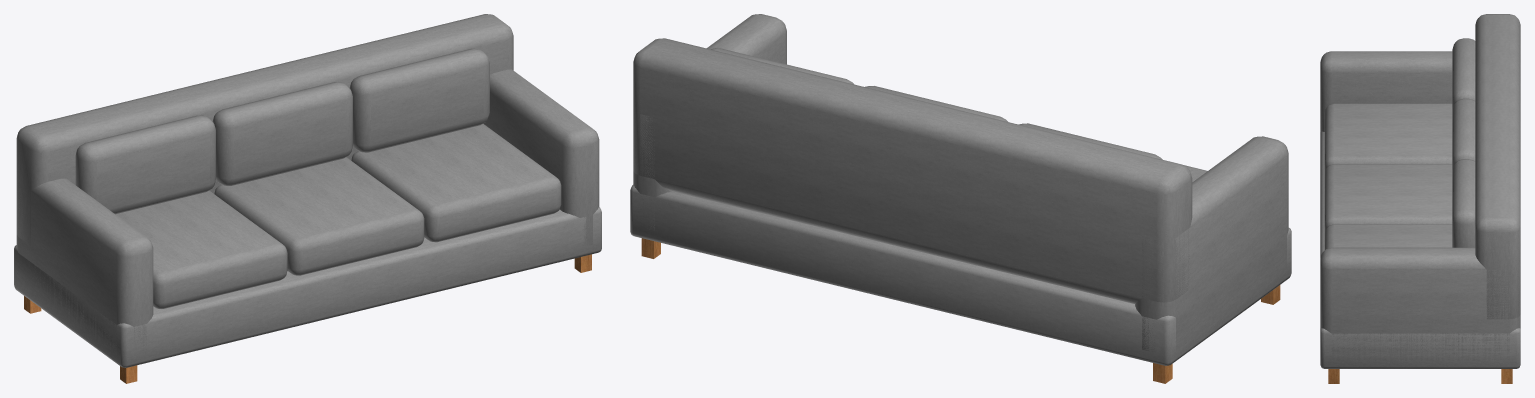
File: lounge.3-seater-sofa.glb
3 views of the same model, side by side, from view 1: azimuth 30°, elevation 25°; view 2: azimuth 150°, elevation 25°; view 3: azimuth 270°, elevation 25° (orthographic). The views are drawn at different scales.
Visible parts, largest first — view 1: lounge.3-seater-sofa.001; view 2: lounge.3-seater-sofa.001; view 3: lounge.3-seater-sofa.001.
Boxes of the visible parts, x1,y1,x2,y2 form: lounge.3-seater-sofa.001: (14,14,601,383); lounge.3-seater-sofa.001: (630,14,1291,383); lounge.3-seater-sofa.001: (1320,14,1520,383).
Size of the model in its own units: 2.2 by 0.8 by 0.88.
2 materials, 2 textured.
